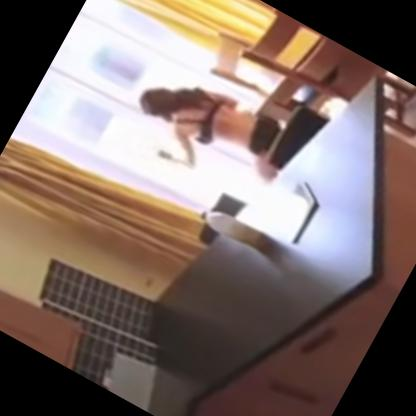Human Body: (112, 46, 305, 216)
